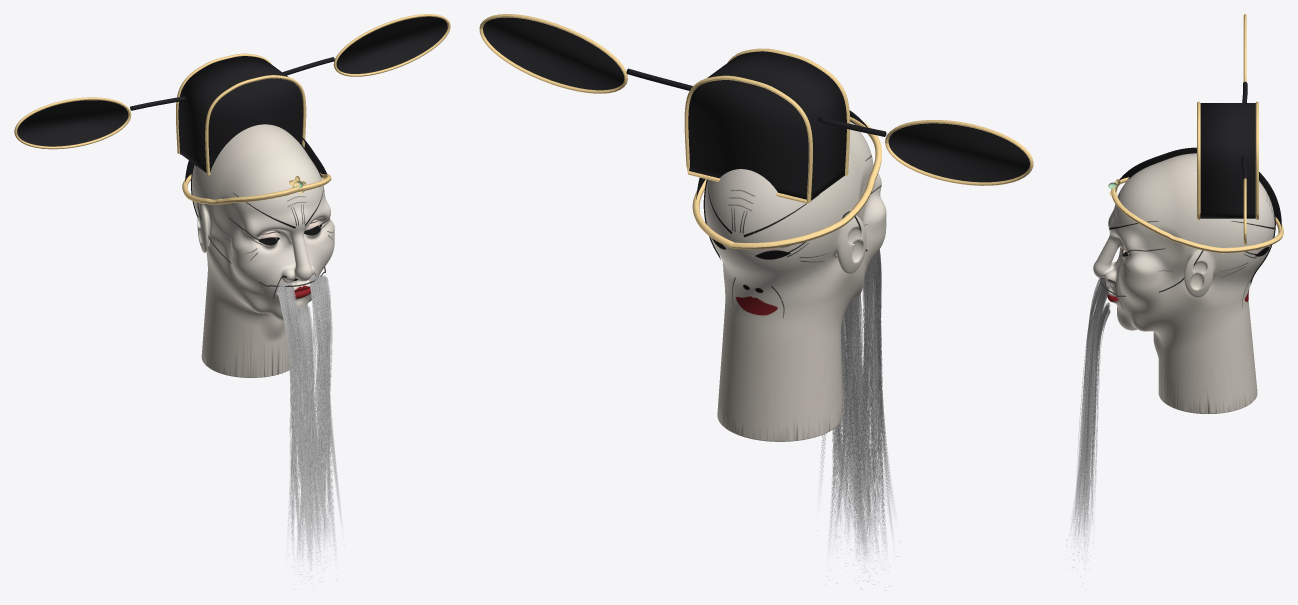
The model's file is head_caocao.glb.
3 views of the same model, side by side, from view 1: azimuth 30°, elevation 25°; view 2: azimuth 150°, elevation 25°; view 3: azimuth 270°, elevation 25° (orthographic). The views are drawn at different scales.
Parts seen in each view (by area): view 1: Face, Beard, Diao_Back, Diao_Wing-1, Diao_Wing1, Diao_Gold, Diao_Rim; view 2: Face, Diao_Back, Beard, Diao_Wing-1, Diao_Wing1, Diao_Gold, Diao_Rim; view 3: Face, Diao_Back, Beard, Diao_Gold, Diao_Rim, Diao.
Boxes of the visible parts, x1=… form: Face: x1=192, y1=124, x2=334, y2=377; Beard: x1=277, y1=275, x2=341, y2=569; Diao_Back: x1=178, y1=56, x2=303, y2=172; Diao_Wing-1: x1=17, y1=100, x2=128, y2=146; Diao_Wing1: x1=336, y1=16, x2=447, y2=73; Diao_Gold: x1=14, y1=14, x2=450, y2=193; Diao_Rim: x1=182, y1=172, x2=331, y2=204; Face: x1=705, y1=121, x2=886, y2=441; Diao_Back: x1=688, y1=51, x2=846, y2=199; Beard: x1=820, y1=249, x2=893, y2=590; Diao_Wing-1: x1=888, y1=123, x2=1029, y2=182; Diao_Wing1: x1=483, y1=17, x2=624, y2=90; Diao_Gold: x1=479, y1=14, x2=1033, y2=203; Diao_Rim: x1=692, y1=117, x2=881, y2=249; Face: x1=1093, y1=153, x2=1274, y2=413; Diao_Back: x1=1200, y1=103, x2=1255, y2=218; Beard: x1=1066, y1=278, x2=1110, y2=583; Diao_Gold: x1=1109, y1=14, x2=1258, y2=244; Diao_Rim: x1=1111, y1=177, x2=1283, y2=253; Diao: x1=1119, y1=147, x2=1281, y2=229.
Bounding box in the file's own units: 0.6454 × 0.6637 × 0.2844.
8 materials, 3 textured.
